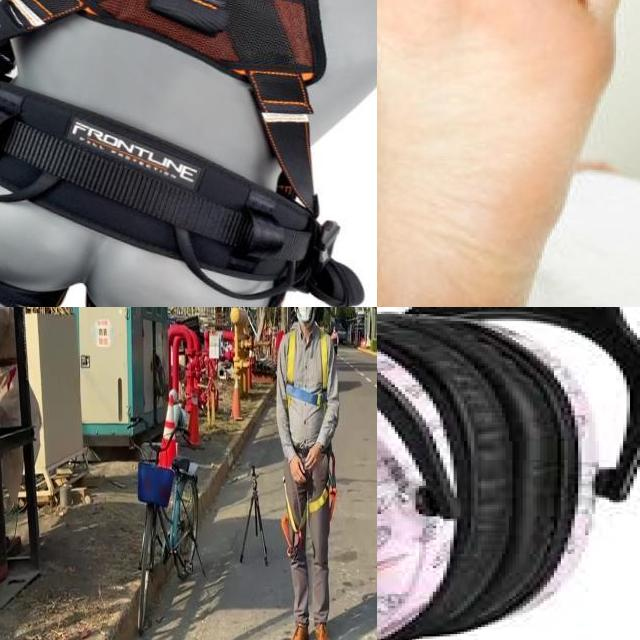Barefoots: (377, 0, 634, 307)
Ear-protection: (377, 307, 464, 640)
Harness: (0, 0, 348, 291), (281, 449, 337, 558), (287, 329, 330, 406)
